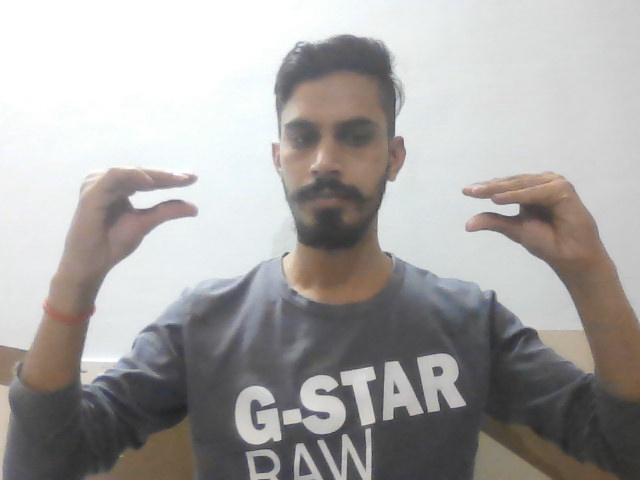No: (457, 164, 628, 271), (71, 157, 207, 271)
